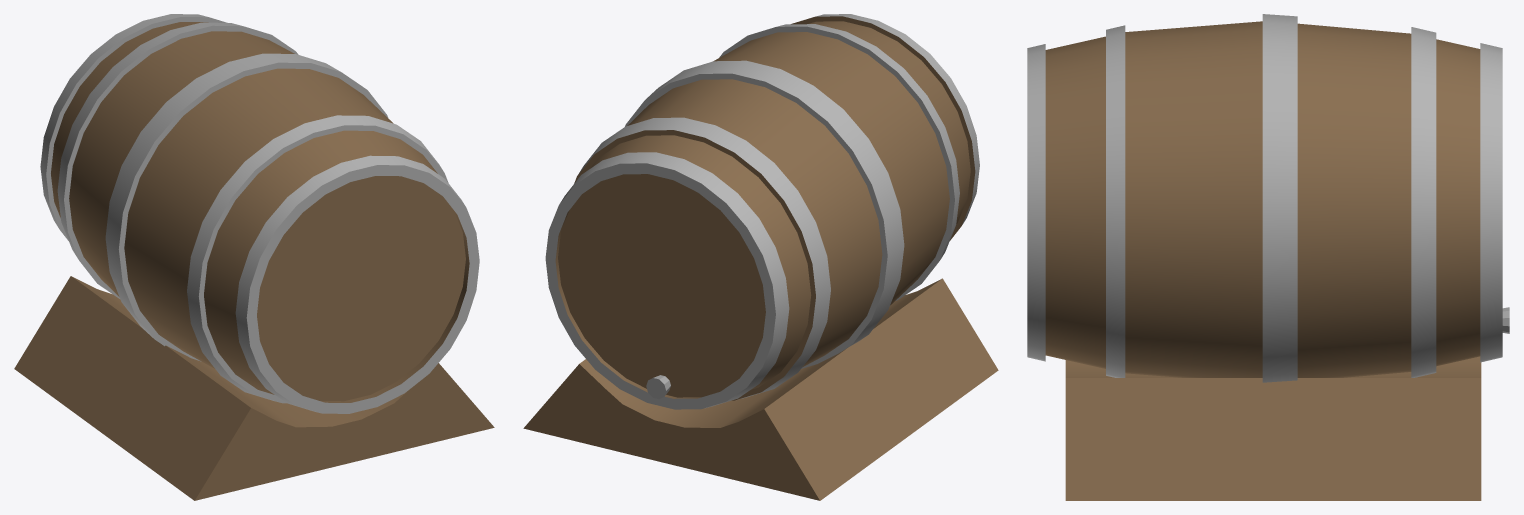
The model's file is Barrel_Stand.fbx.
3 views of the same model, side by side, from view 1: azimuth 30°, elevation 25°; view 2: azimuth 150°, elevation 25°; view 3: azimuth 270°, elevation 25° (orthographic). The views are drawn at different scales.
Visible parts, largest first — view 1: pCube2; view 2: pCube2; view 3: pCube2.
Part boxes in pixels (<box>): pCube2: <box>14,14,494,500</box>; pCube2: <box>523,14,998,500</box>; pCube2: <box>1027,14,1509,500</box>.
Size of the model in its own units: 7.41 by 7.89 by 8.95.
